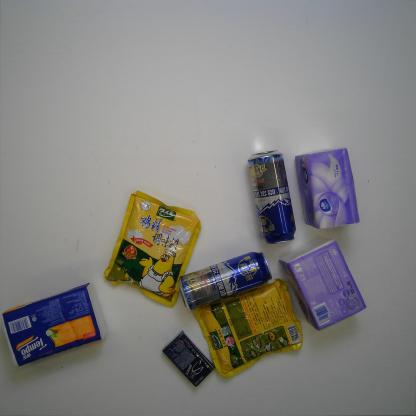Alcohol: (176, 248, 276, 312), (245, 146, 298, 249)
Gum: (160, 329, 215, 388)
Seasoner: (104, 188, 202, 312), (190, 278, 307, 380)
Tissue: (1, 283, 112, 371), (278, 236, 366, 334), (294, 148, 362, 232)
